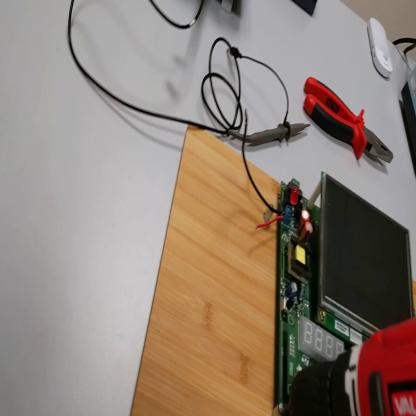electric screwdriver: (281, 314, 416, 416)
low voltage board: (256, 173, 415, 415)
oscilloscope: (219, 1, 240, 16)
oscilloscope probe tip: (248, 124, 312, 146)
pliers: (305, 76, 395, 168)
welder station: (402, 68, 416, 151)
working area: (129, 128, 416, 416)
